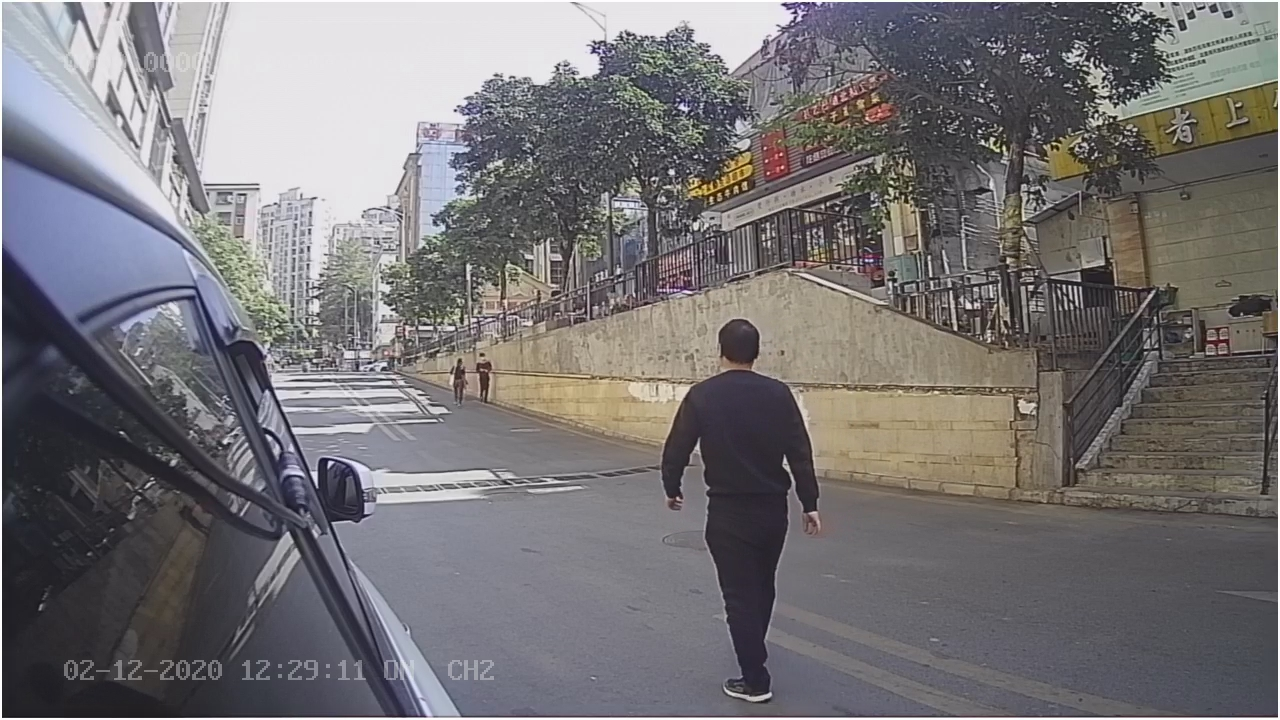person: (658, 308, 836, 704)
